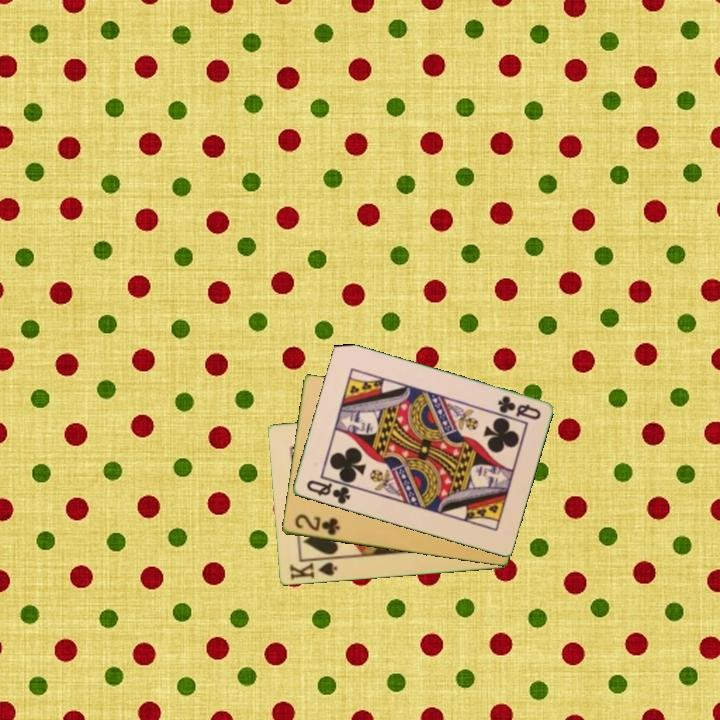2c: (291, 511, 343, 538)
Ks: (286, 559, 340, 583)
Qc: (494, 392, 543, 423), (303, 477, 353, 507)
